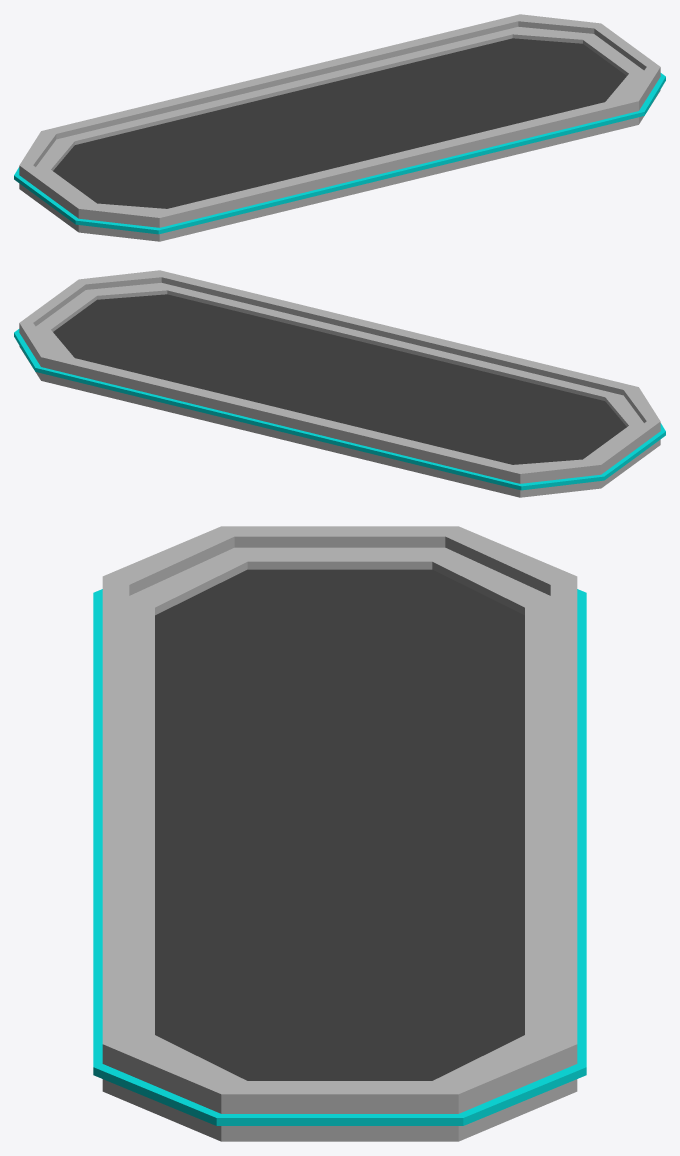
File: MSH_RectangularNeon.fbx
The picture shows the model from 3 angles, top to bottom: view 1: azimuth 30°, elevation 25°; view 2: azimuth 150°, elevation 25°; view 3: azimuth 270°, elevation 25°; orthographic projection. The views are drawn at different scales.
Parts seen in each view (by area): view 1: polySurface61; view 2: polySurface61; view 3: polySurface61.
Boxes of the visible parts, box(x1,y1,x2,y2) form: polySurface61: box(14, 14, 665, 241); polySurface61: box(14, 270, 665, 497); polySurface61: box(93, 526, 586, 1141).
Bounding box in the file's own units: 17.27 × 0.6624 × 6.25.
